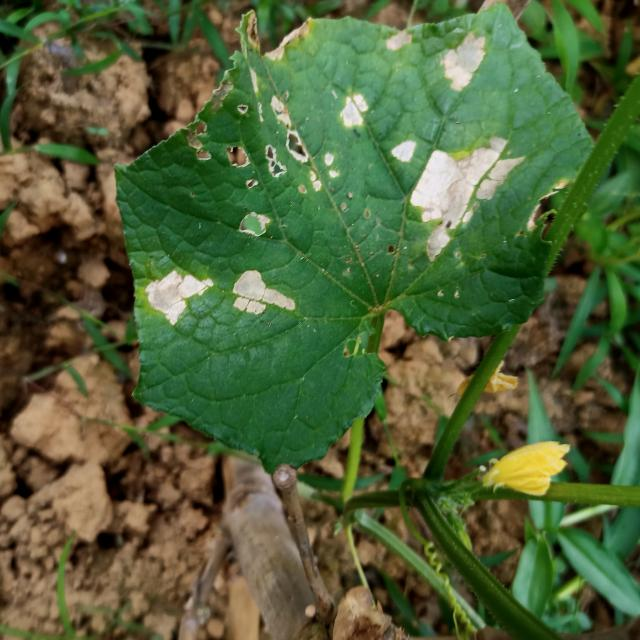disease_cucumber: (336, 26, 515, 265), (187, 95, 332, 242), (138, 249, 304, 327)
